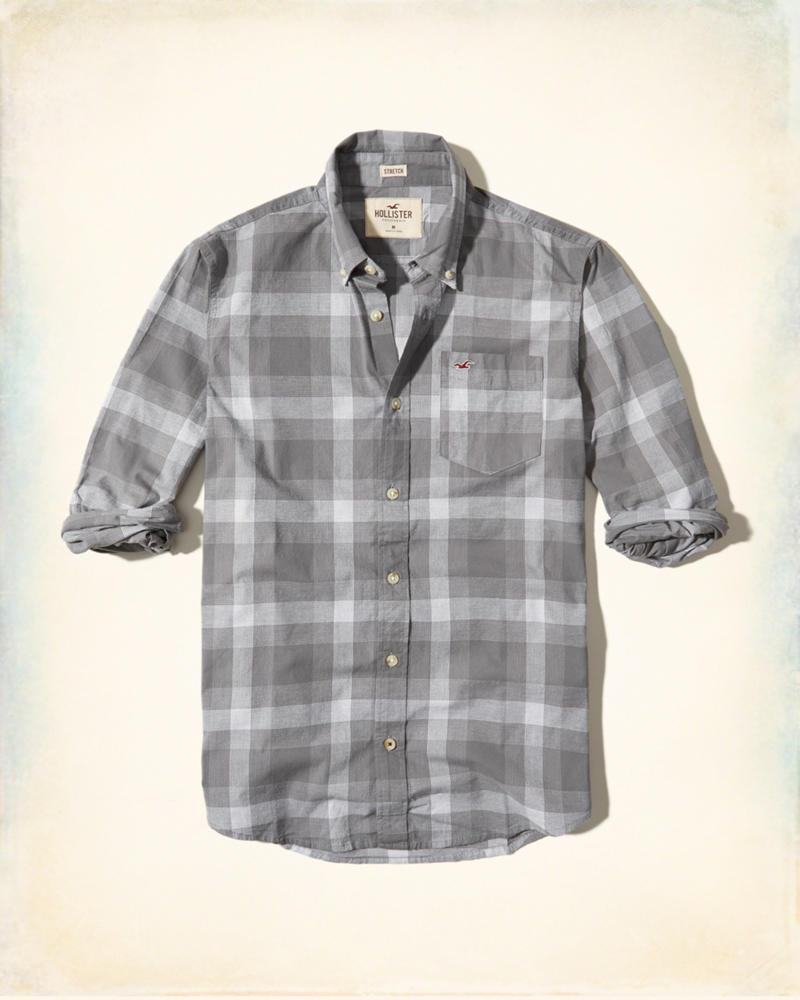teeshirt: (55, 127, 741, 878)
